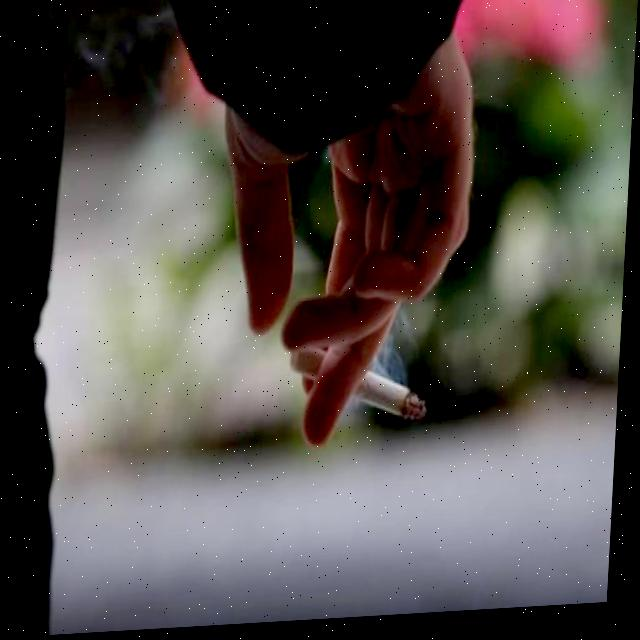cigarette: (291, 341, 436, 430)
